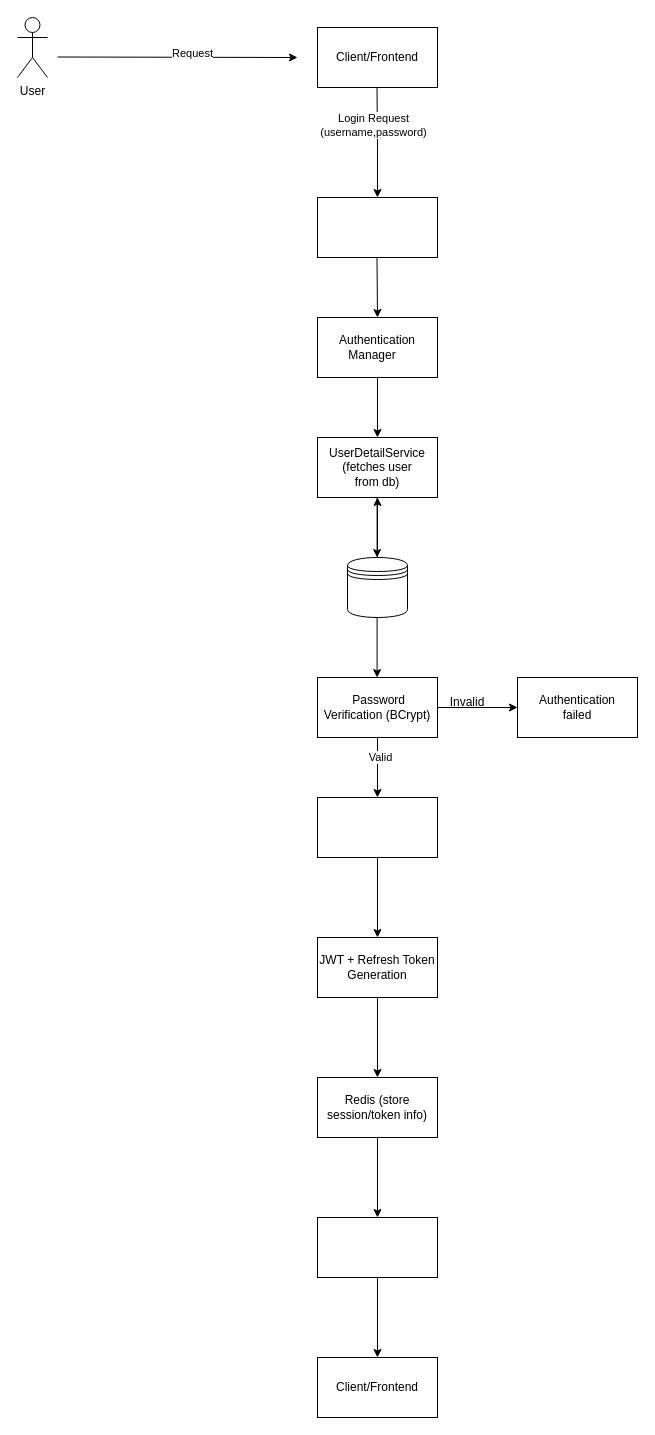
Some shapes in this 655 by 1435 pixel diagram are drawn without their labels. Here are the shapes that lost their labels. From the top down, the centre of each, then its label:
At point (377, 227): "Spring Security Filter Chain".
At point (377, 587): "MySQL".
At point (377, 827): "Authentication Success".
At point (377, 1247): "Response (JWT + Refresh Token)".
